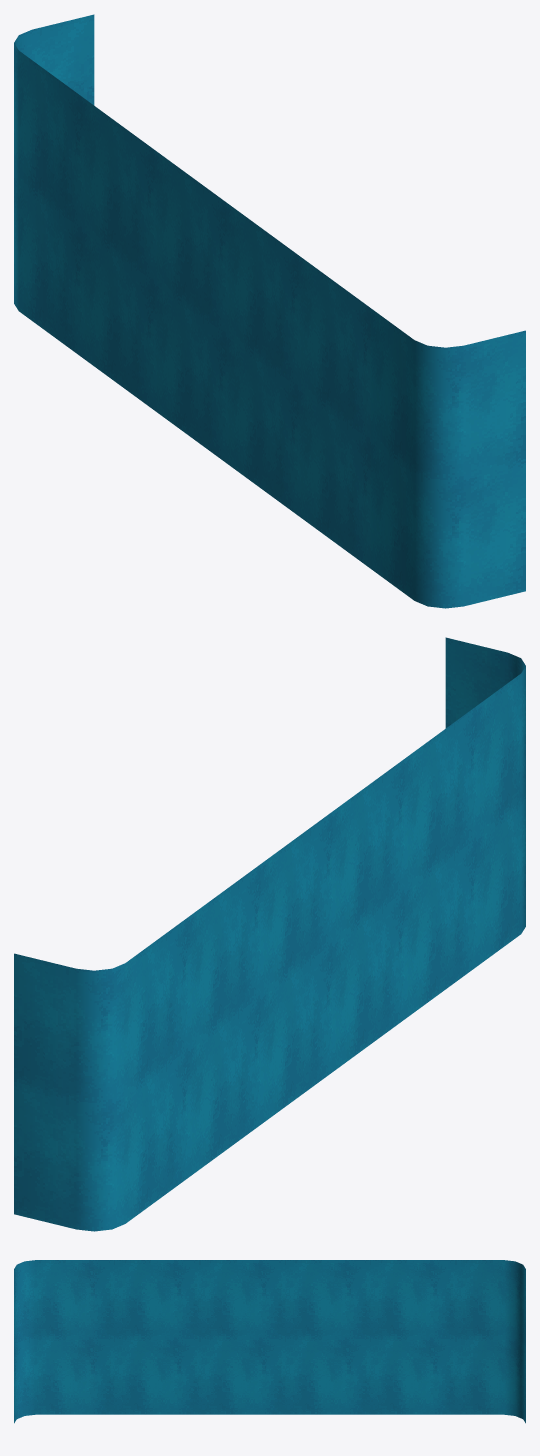
The model's file is Cliff_Cave_Entrance_Waterfall_Wide_Base.glb.
3 renders of one model, top to bottom at view 1: azimuth 30°, elevation 25°; view 2: azimuth 150°, elevation 25°; view 3: azimuth 270°, elevation 25°, orthographic. The views are drawn at different scales.
Visible parts, largest first — view 1: Water_Waterfall_Base_Right_1x1, Water_Waterfall_Base_Left_1x1, Water_Waterfall_Base_Center_1x1 (×2); view 2: Water_Waterfall_Base_Left_1x1, Water_Waterfall_Base_Right_1x1, Water_Waterfall_Base_Center_1x1 (×2); view 3: Water_Waterfall_Base_Center_1x1 (×2), Water_Waterfall_Base_Left_1x1, Water_Waterfall_Base_Right_1x1.
Part boxes in pixels (x1=…): Water_Waterfall_Base_Right_1x1: x1=288, y1=248, x2=525, y2=608; Water_Waterfall_Base_Left_1x1: x1=14, y1=14, x2=144, y2=402; Water_Waterfall_Base_Center_1x1 (×2): x1=144, y1=143, x2=288, y2=508; Water_Waterfall_Base_Left_1x1: x1=14, y1=871, x2=251, y2=1231; Water_Waterfall_Base_Right_1x1: x1=395, y1=637, x2=525, y2=1025; Water_Waterfall_Base_Center_1x1 (×2): x1=251, y1=766, x2=395, y2=1131; Water_Waterfall_Base_Center_1x1 (×2): x1=184, y1=1260, x2=355, y2=1414; Water_Waterfall_Base_Left_1x1: x1=355, y1=1260, x2=525, y2=1423; Water_Waterfall_Base_Right_1x1: x1=14, y1=1260, x2=184, y2=1423.
Size of the model in its own units: 75 by 200 by 600.
3 materials, 3 textured.
